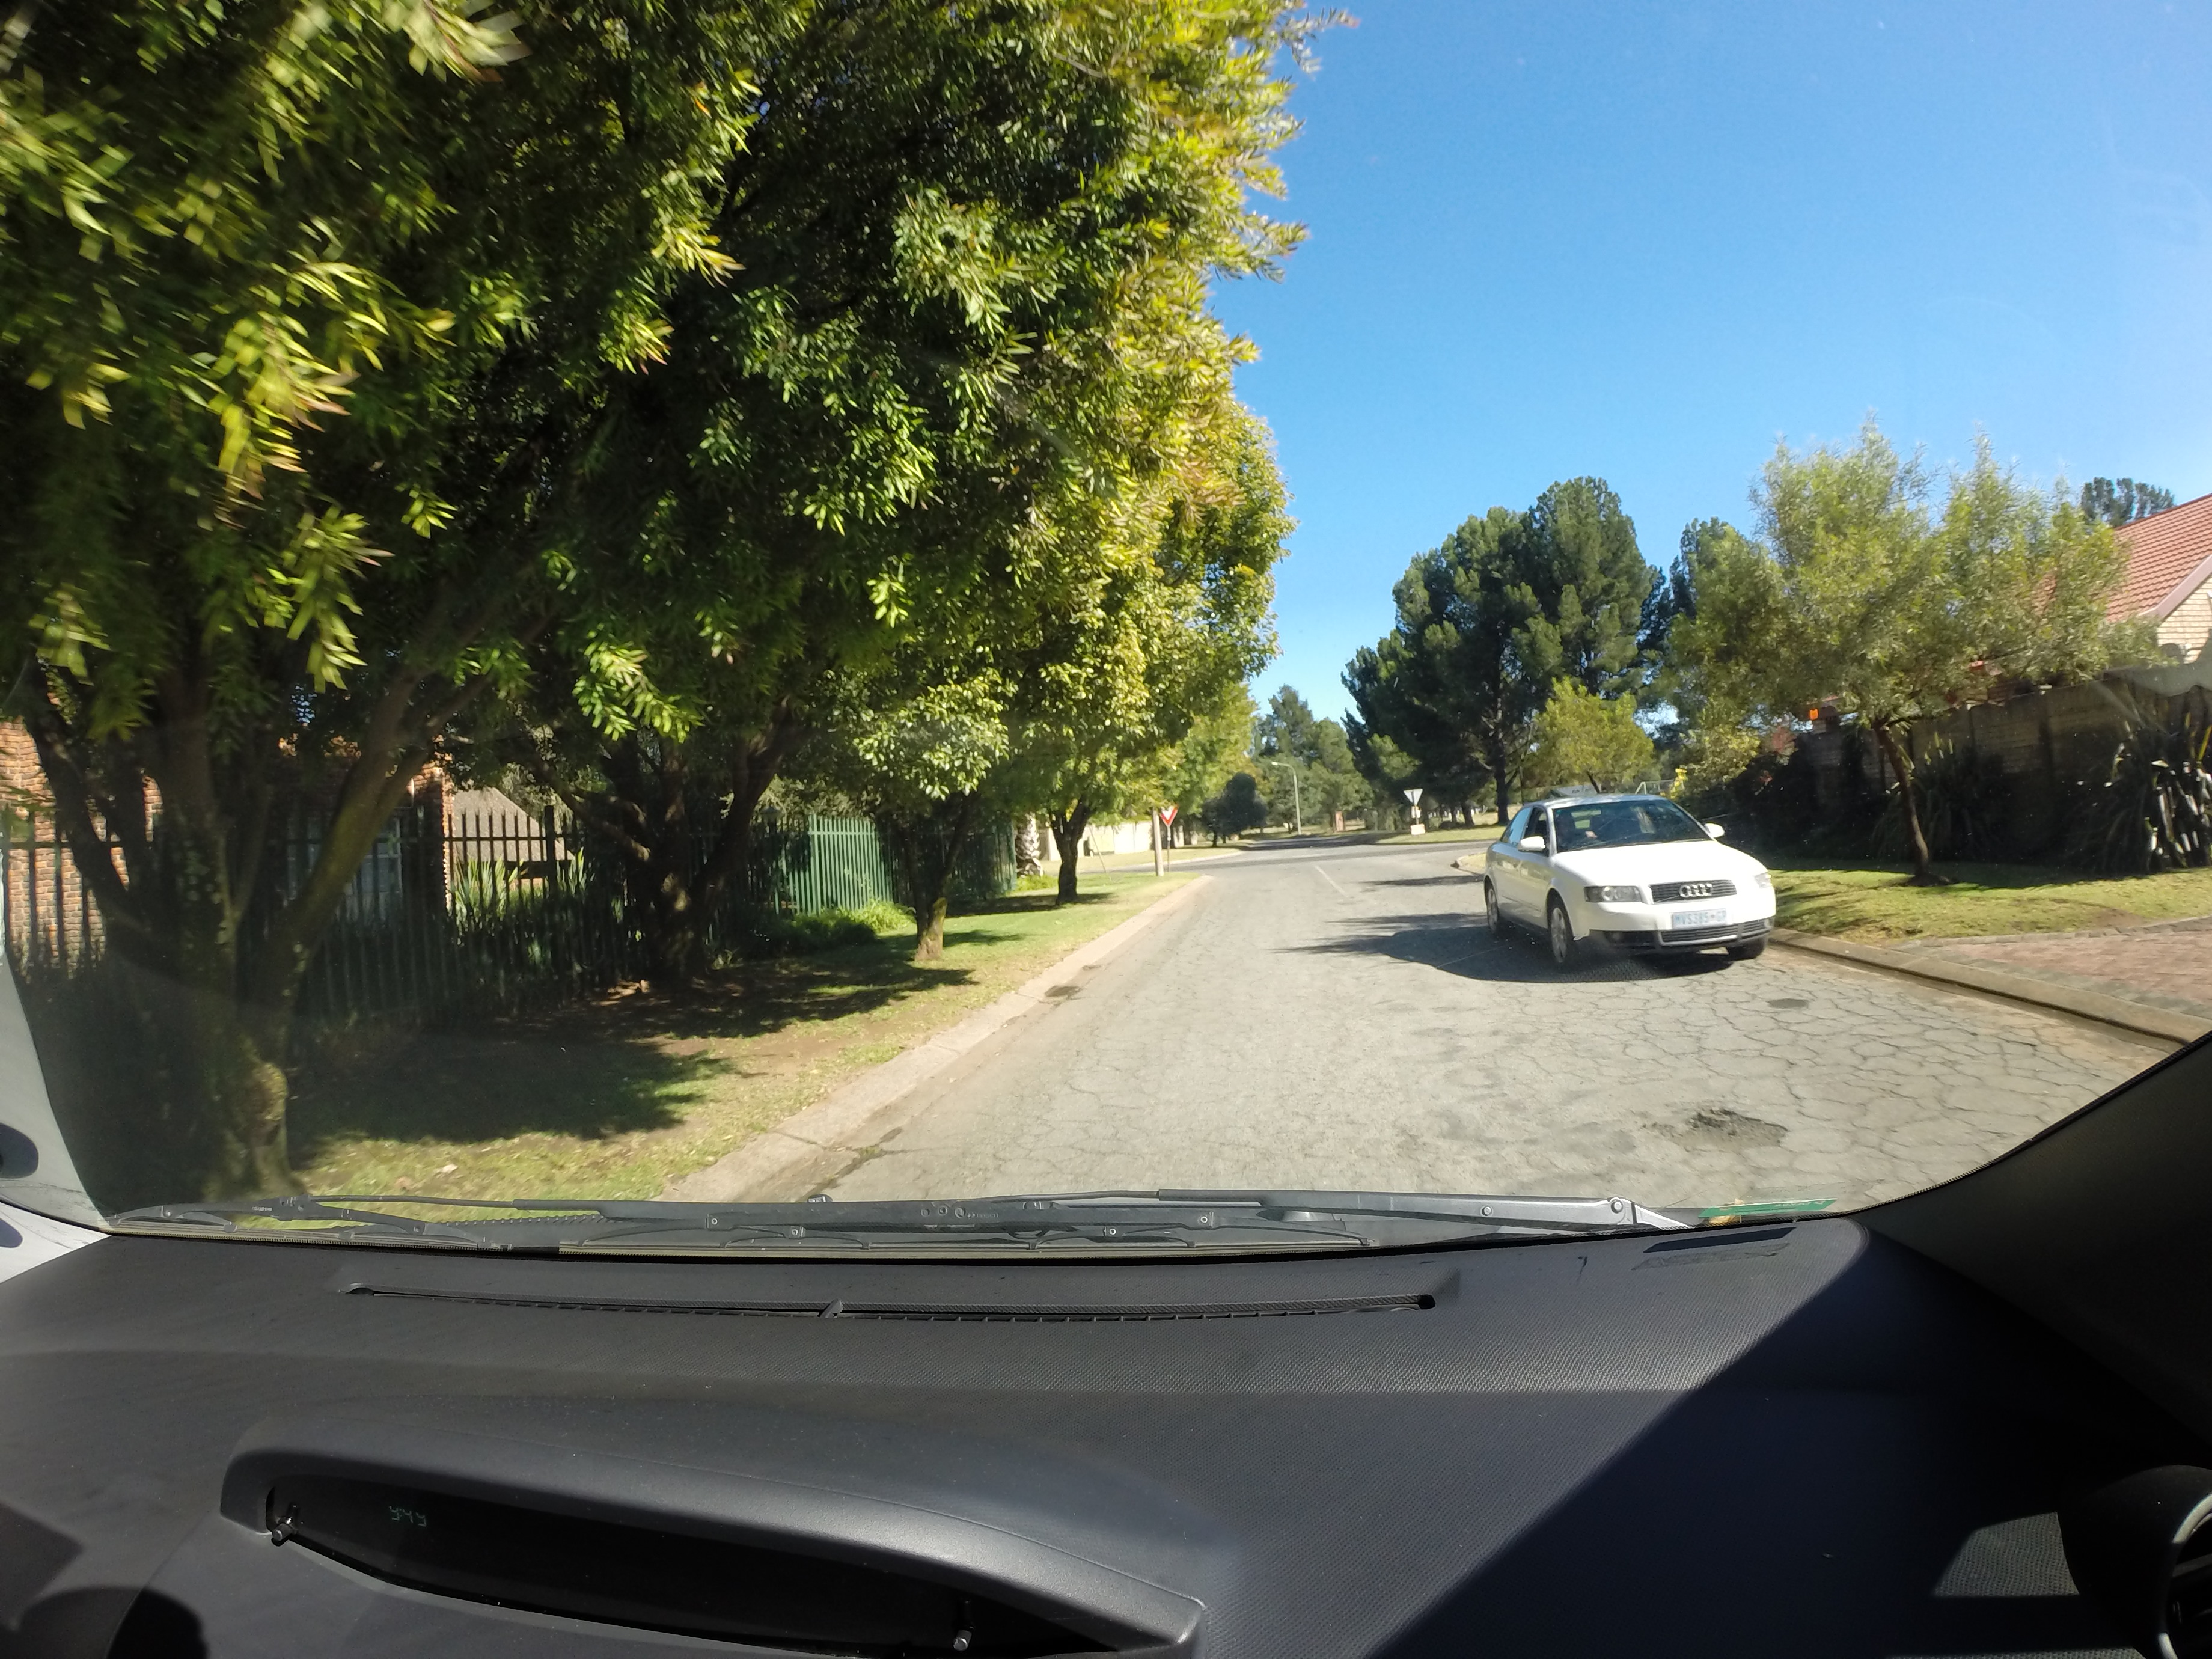pothole: (1651, 1075, 1806, 1161)
